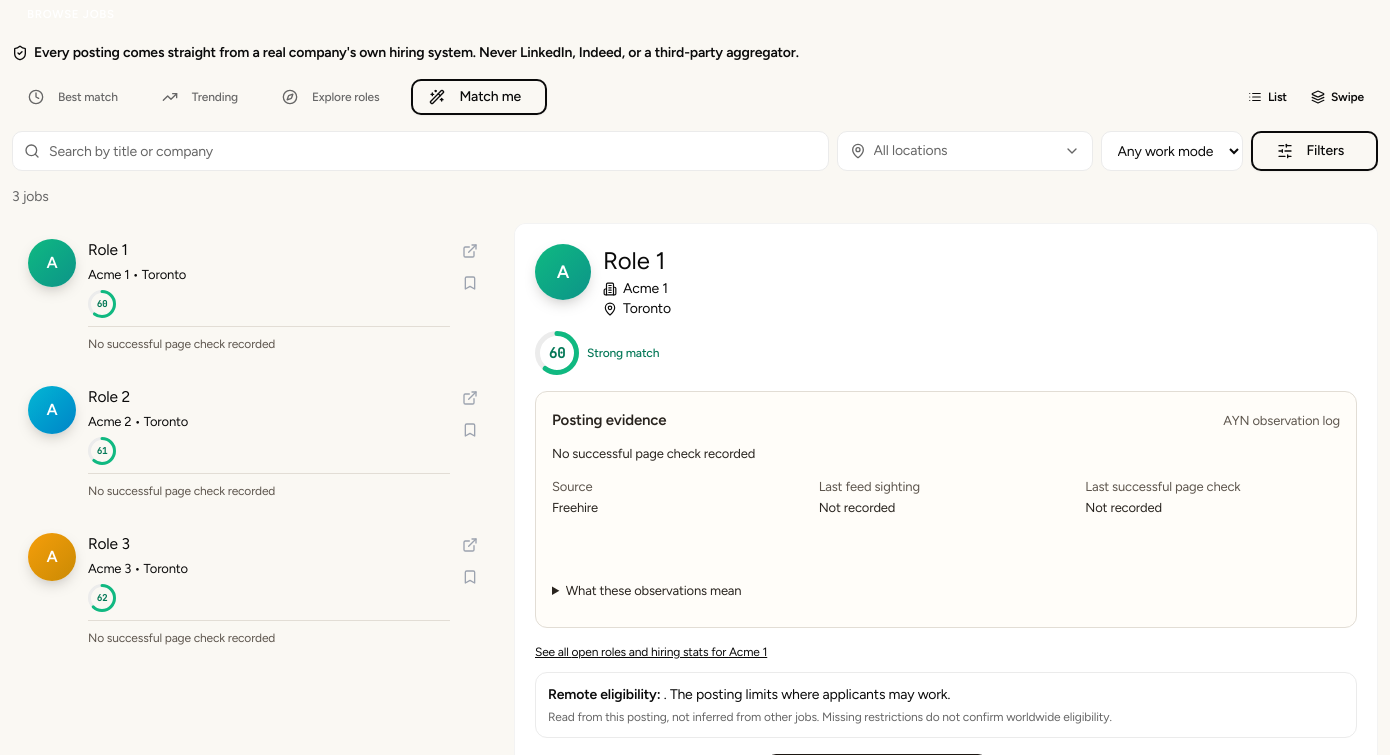
Scenario: BrowseJobs list (real component, mocked backend) › Remote toggles a remote-only query and shows the Clear button
The width and height of the screenshot is (1390, 755).
Expected: the text "Clear" is not shown
Select "Remote" in the dropdown named "Work mode" at [1172, 151], box [1100, 131, 1242, 171]
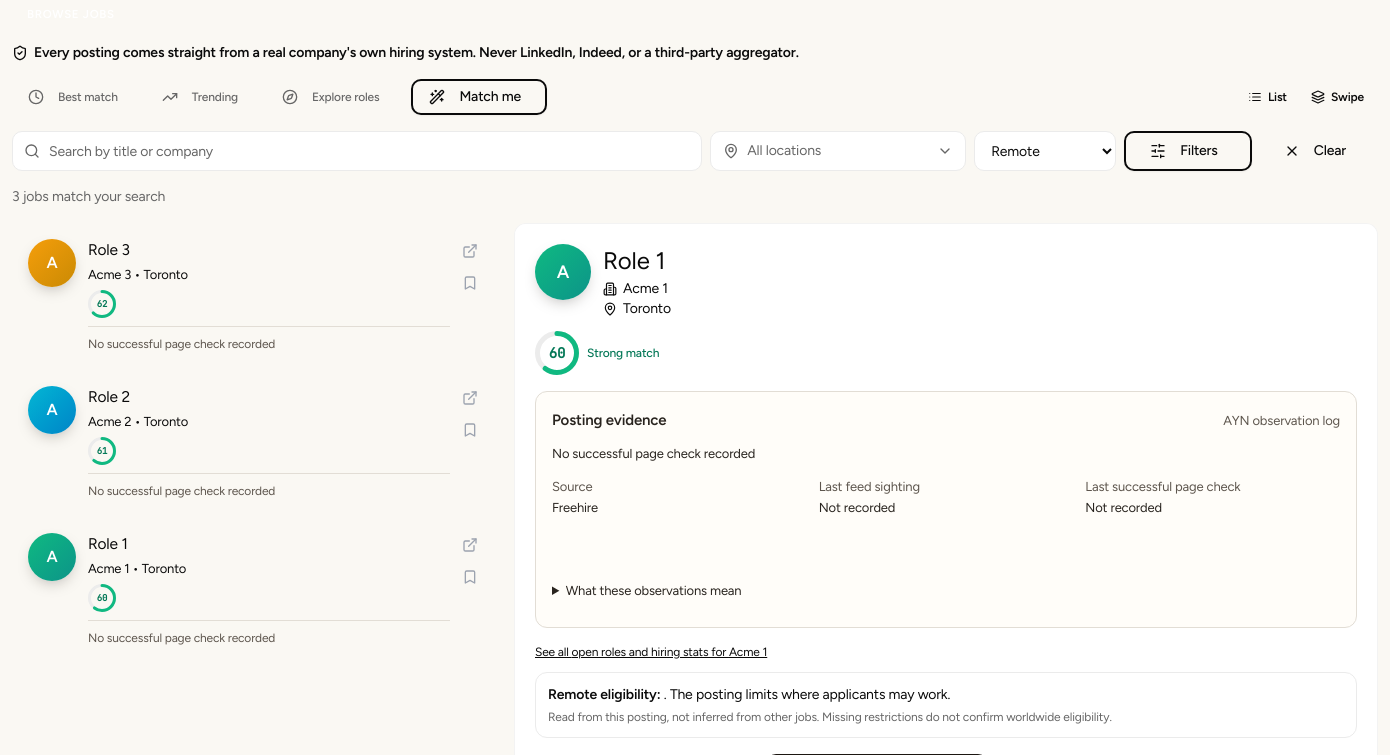
Click the button "Clear" at [1319, 151], box [1260, 131, 1378, 171]
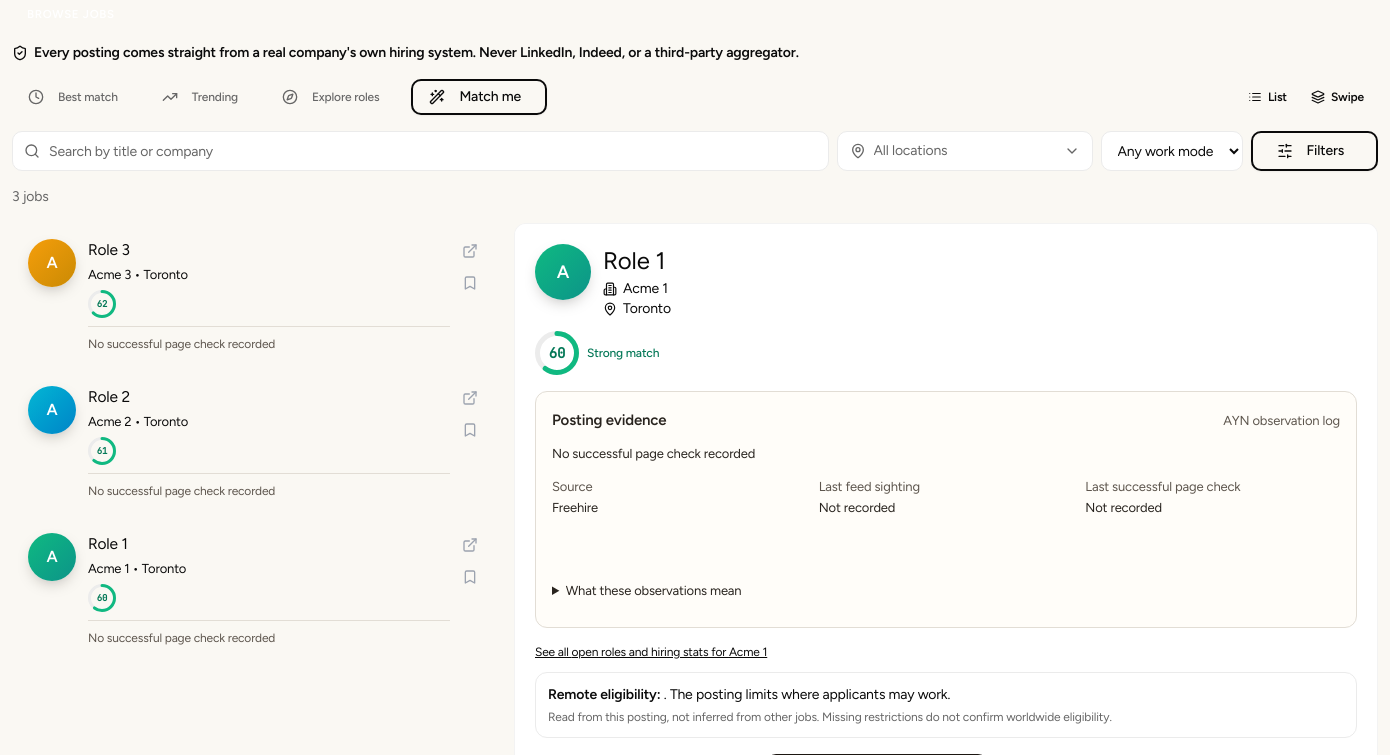
Result: the button "Clear" is gone
